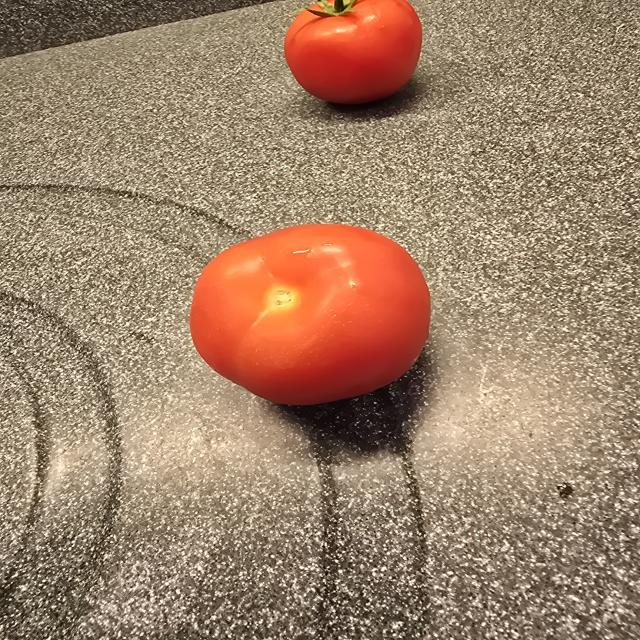Tomato: (190, 224, 431, 405), (284, 0, 422, 104)
